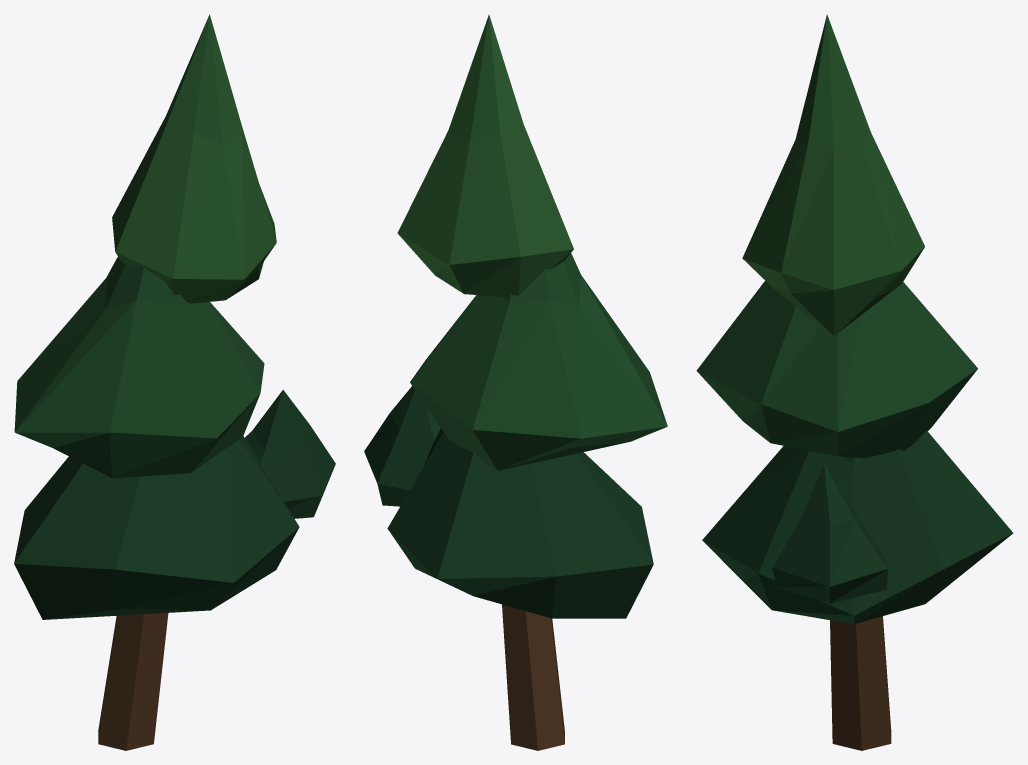
The model's file is E1_pine_c.glb.
The picture shows the model from 3 angles, left to right: view 1: azimuth 30°, elevation 25°; view 2: azimuth 150°, elevation 25°; view 3: azimuth 270°, elevation 25°; orthographic projection. The views are drawn at different scales.
Visible parts, largest first — view 1: E1_pine_c; view 2: E1_pine_c; view 3: E1_pine_c.
Boxes of the visible parts, x1,y1,x2,y2 form: E1_pine_c: [14, 14, 335, 750]; E1_pine_c: [364, 14, 667, 750]; E1_pine_c: [696, 14, 1013, 750].
Size of the model in its own units: 1.94 by 4.2 by 1.59.
